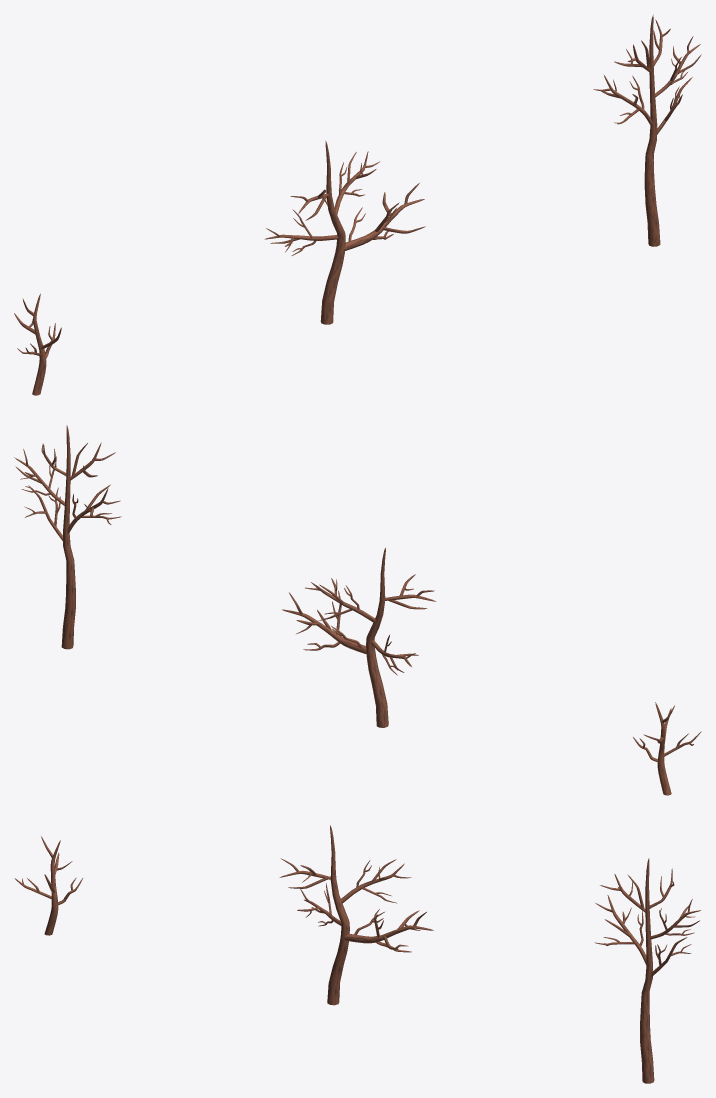
File: arvores-mortas.glb
3 renders of one model, top to bottom at view 1: azimuth 30°, elevation 25°; view 2: azimuth 150°, elevation 25°; view 3: azimuth 330°, elevation 25°, orthographic. The views are drawn at different scales.
Parts seen in each view (by area): view 1: DeadTree_3, DeadTree_1, DeadTree_5; view 2: DeadTree_3, DeadTree_1, DeadTree_5; view 3: DeadTree_3, DeadTree_1, DeadTree_5.
Part boxes in pixels (box(x1,y1,x2,y2)): DeadTree_3: box(264, 140, 425, 324); DeadTree_1: box(593, 14, 701, 246); DeadTree_5: box(14, 293, 61, 395); DeadTree_3: box(282, 547, 435, 727); DeadTree_1: box(14, 425, 121, 649); DeadTree_5: box(633, 702, 701, 795); DeadTree_3: box(279, 825, 433, 1005); DeadTree_1: box(594, 858, 701, 1083); DeadTree_5: box(14, 836, 82, 935).
Bounding box in the file's own units: 19.55 × 6.2 × 1.7.
Materials: 1 (1 with a texture image).
